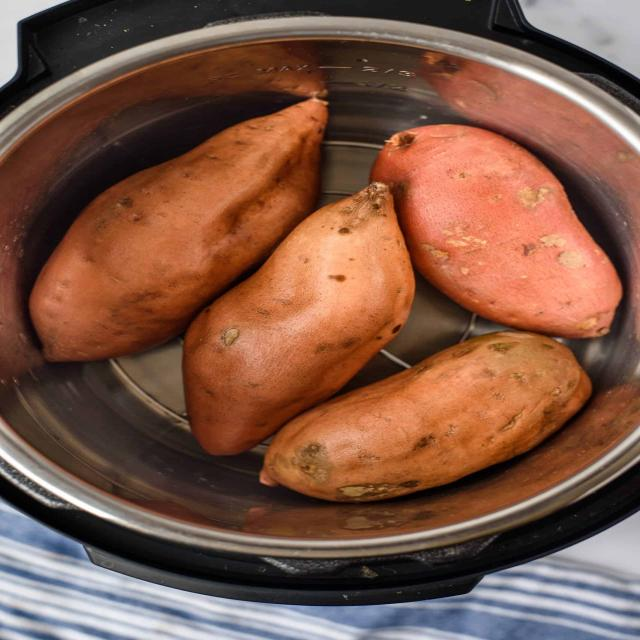Sweet Potato: (29, 97, 330, 360), (258, 332, 598, 499), (380, 119, 636, 337)
